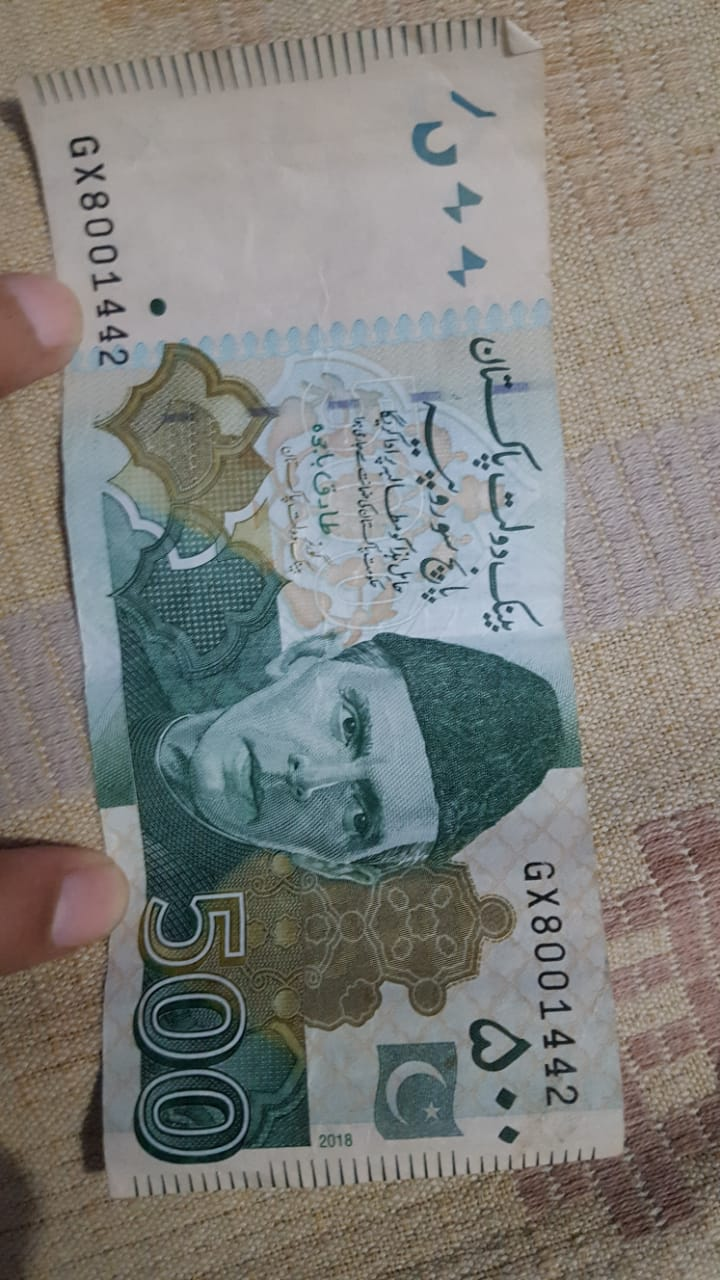500 rupee: (22, 35, 635, 1204)
